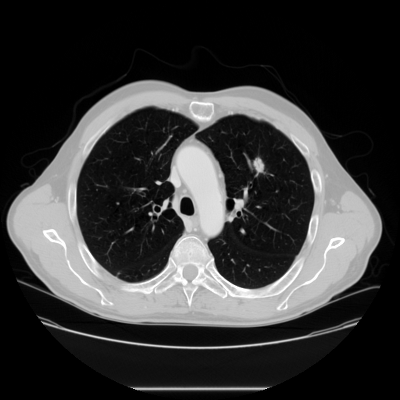nodule: (253, 159, 265, 171)
